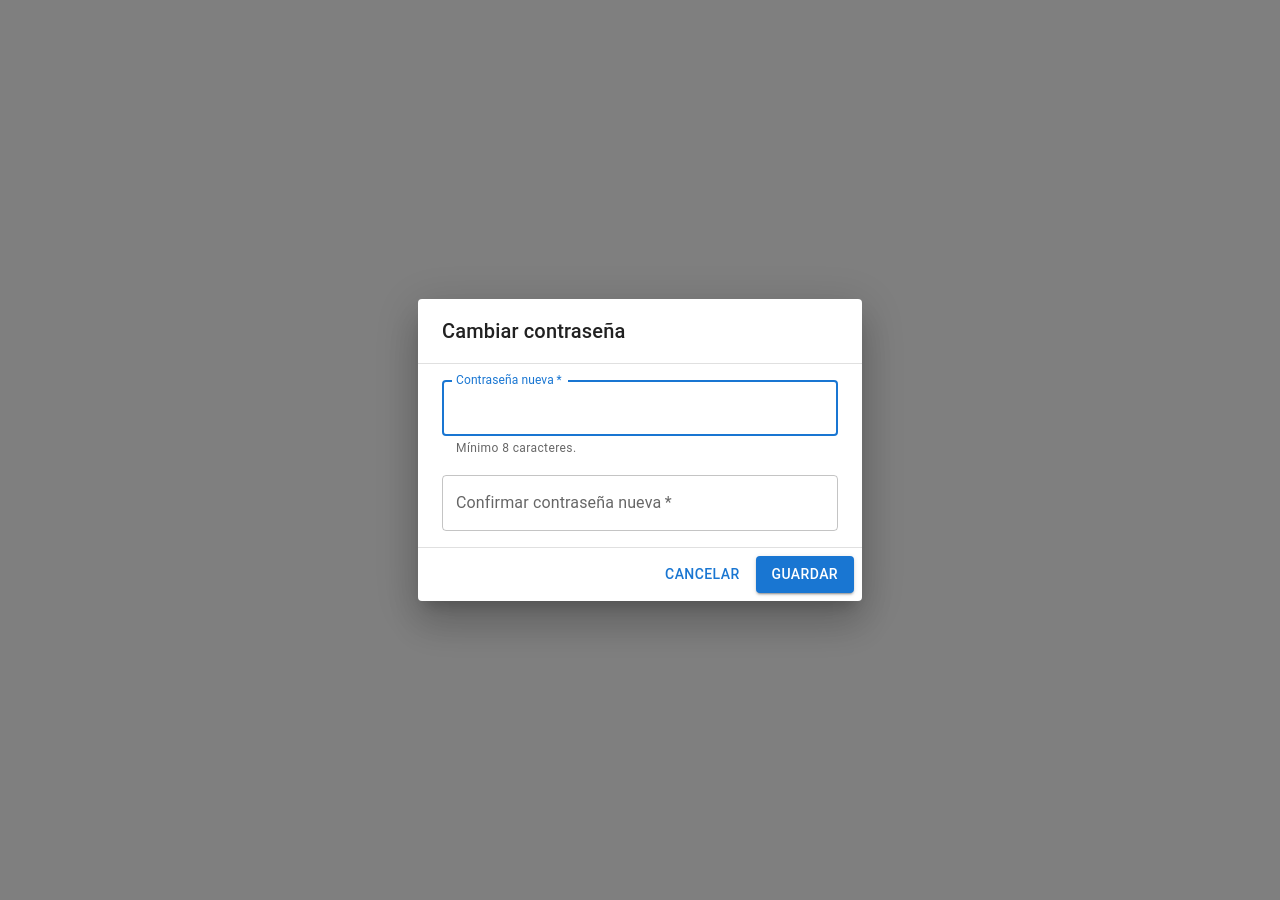
Test: CambiarPasswordDialog › envío exitoso muestra el mensaje de éxito y no se cierra solo
Type "ContraseñaLarga123" into the password field labelled "Contraseña nueva *" at (640, 408), box [442,380,838,436]
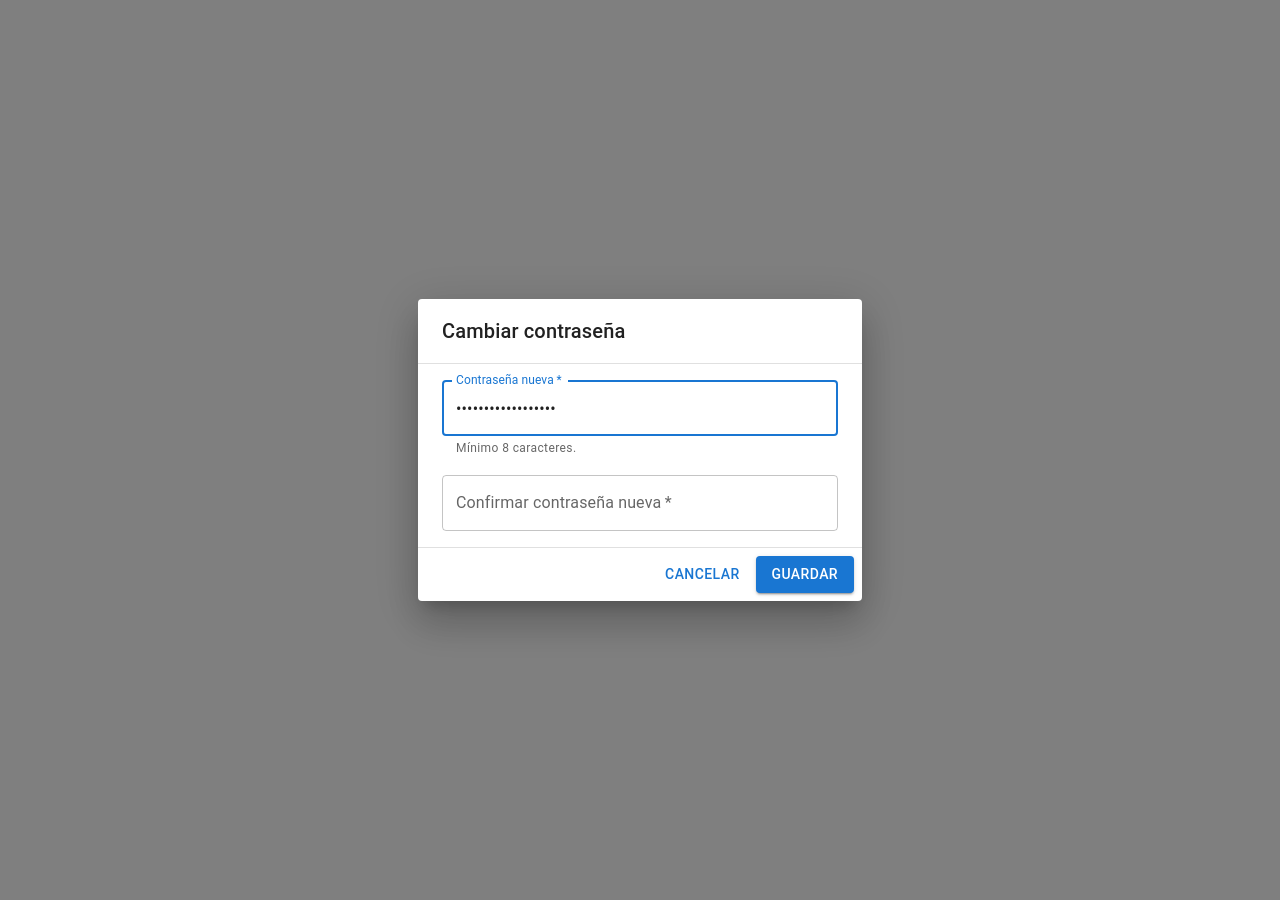
Type "ContraseñaLarga123" into the password field labelled "Confirmar contraseña nueva *" at (640, 503), box [442,475,838,531]
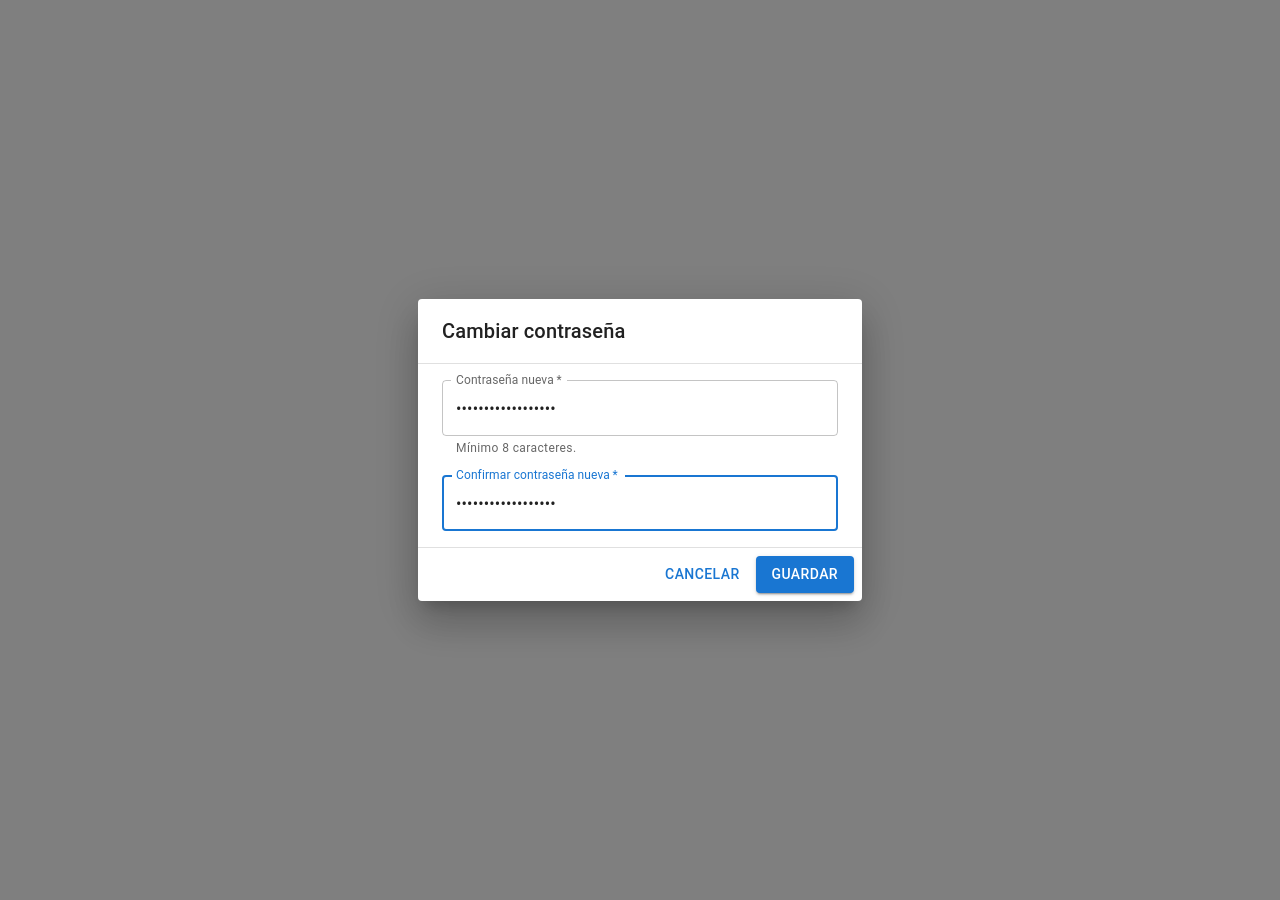
Click the button "Guardar" at (805, 574), box [756,556,854,593]
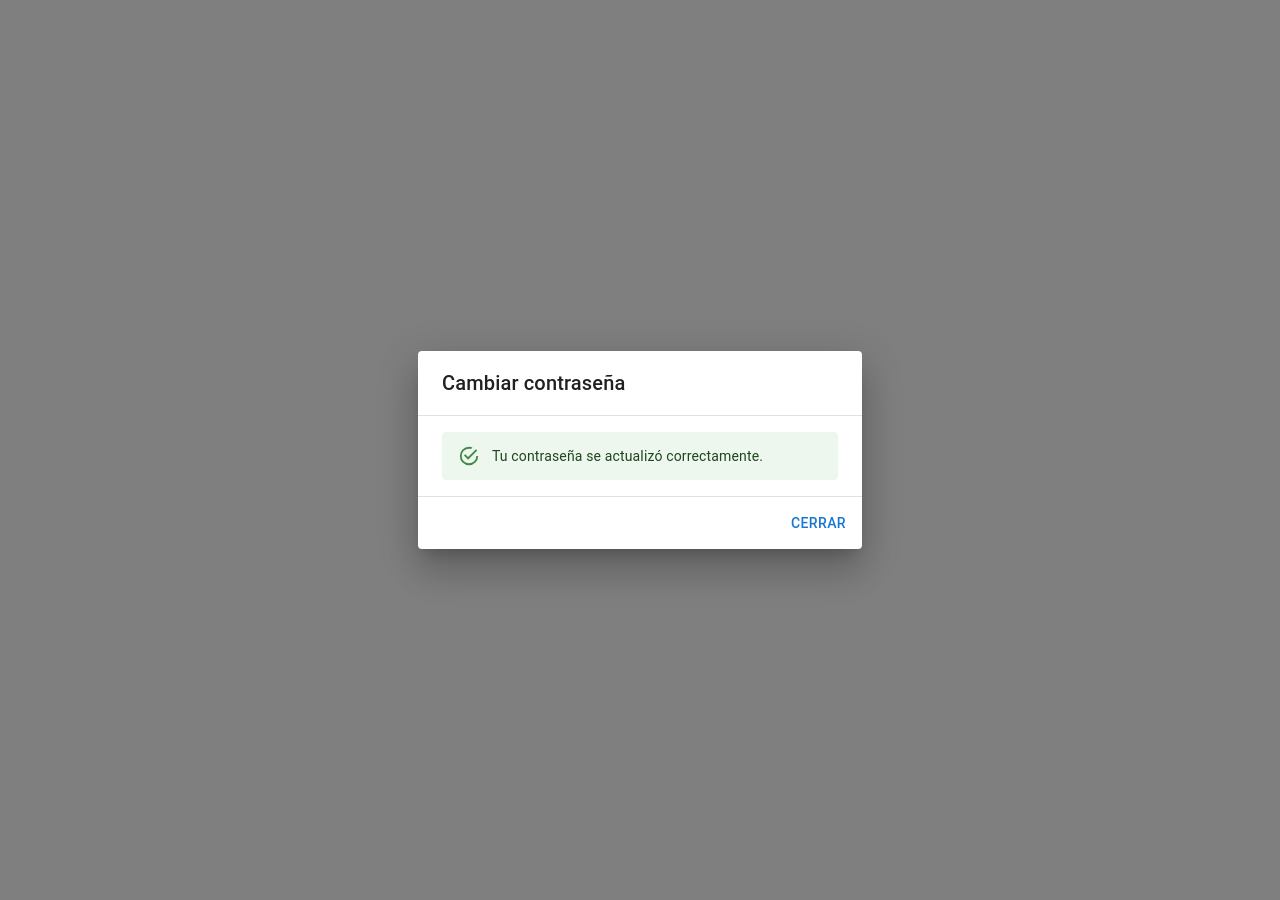
expect the text "Tu contraseña se actualizó correctamente." is shown: met, box [492,448,763,464]
